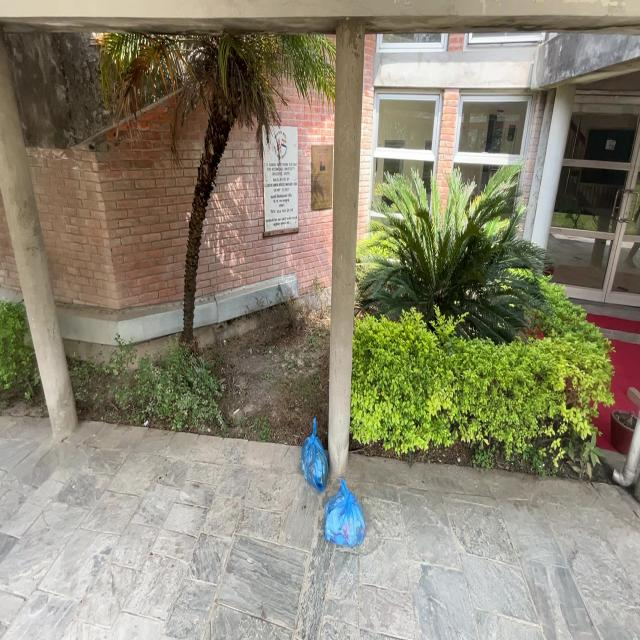garbage: (324, 474, 370, 556), (290, 418, 333, 494)
